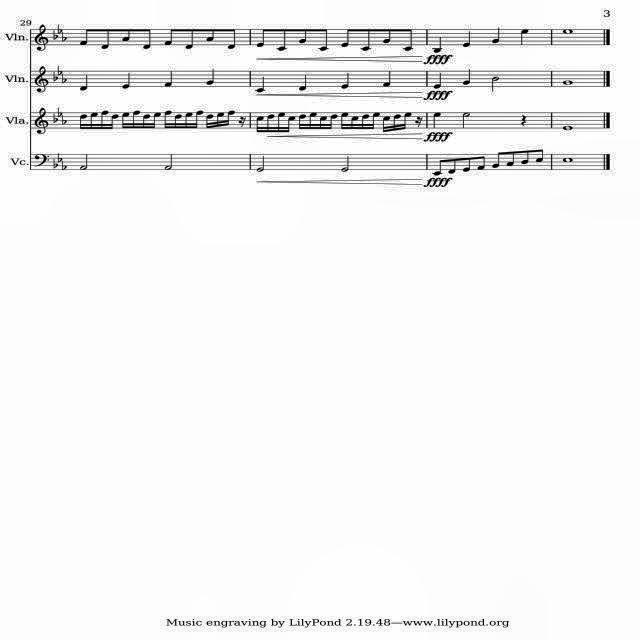Bass-clef: (34, 66, 50, 94), (34, 107, 50, 135), (35, 24, 49, 51)
Bemol: (61, 32, 68, 44), (53, 112, 59, 124), (61, 114, 67, 126), (53, 30, 59, 40), (57, 24, 63, 34), (53, 71, 59, 81), (57, 65, 63, 75), (53, 159, 59, 169), (61, 160, 67, 170), (58, 106, 62, 118), (62, 73, 66, 83), (58, 153, 62, 163)
Eighth-note: (403, 28, 413, 52), (277, 29, 287, 51), (319, 29, 329, 51), (256, 28, 266, 48), (341, 28, 351, 48), (362, 29, 371, 51), (101, 29, 109, 49), (143, 29, 151, 49), (163, 30, 173, 46), (186, 29, 194, 49), (228, 29, 236, 49), (382, 28, 392, 44), (433, 160, 443, 176), (462, 156, 472, 172), (448, 158, 457, 174), (492, 152, 501, 168), (534, 148, 544, 162), (80, 29, 88, 45), (478, 155, 486, 171), (506, 150, 514, 166), (298, 29, 306, 43), (521, 150, 529, 164), (122, 30, 130, 42), (206, 30, 214, 42)
Full-note: (562, 126, 574, 130), (562, 80, 574, 84), (563, 158, 573, 162), (563, 30, 573, 34)
Half-note: (256, 156, 266, 172), (340, 156, 350, 172), (492, 76, 501, 92), (80, 154, 88, 170), (164, 154, 172, 170), (462, 112, 470, 128)
Quarter-note: (298, 74, 308, 90), (522, 28, 530, 46), (434, 36, 442, 54), (433, 72, 442, 88), (492, 28, 500, 44), (462, 31, 470, 47), (462, 68, 470, 84), (433, 112, 441, 128), (383, 71, 391, 87), (342, 72, 350, 88), (256, 76, 264, 92), (206, 69, 214, 85), (164, 71, 172, 87), (122, 72, 130, 88), (80, 74, 88, 90)
Quarter-rest: (520, 114, 528, 126)
Sixteenth-note: (401, 112, 413, 132), (276, 112, 286, 134), (150, 111, 162, 129), (306, 113, 318, 131), (100, 110, 110, 130), (193, 110, 203, 130), (370, 112, 380, 132), (224, 111, 236, 127), (391, 115, 401, 134), (339, 113, 349, 131), (327, 114, 338, 130), (120, 112, 130, 128), (132, 110, 140, 130), (164, 110, 172, 130), (173, 114, 183, 130), (183, 112, 193, 128), (359, 114, 369, 130), (266, 115, 274, 134), (90, 112, 98, 130), (349, 116, 358, 132), (80, 114, 88, 130), (110, 114, 118, 130), (142, 114, 150, 130), (206, 114, 214, 130), (216, 112, 224, 128), (256, 116, 264, 132), (286, 116, 294, 132), (298, 114, 306, 130), (382, 116, 390, 132), (318, 117, 327, 131)
